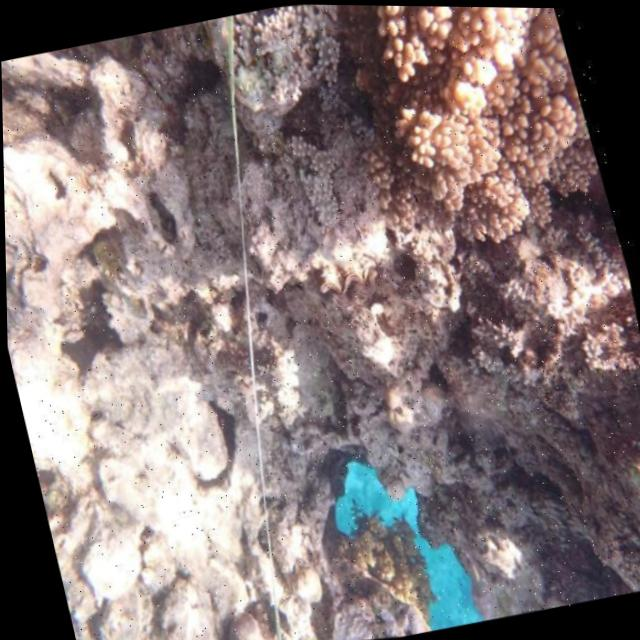Healthy Coral: (357, 4, 604, 244)
